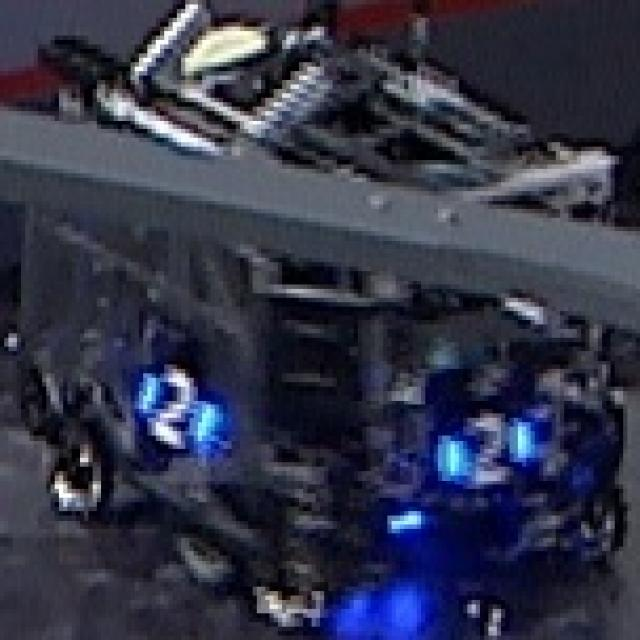B2: (130, 364, 219, 449), (434, 409, 534, 484)
